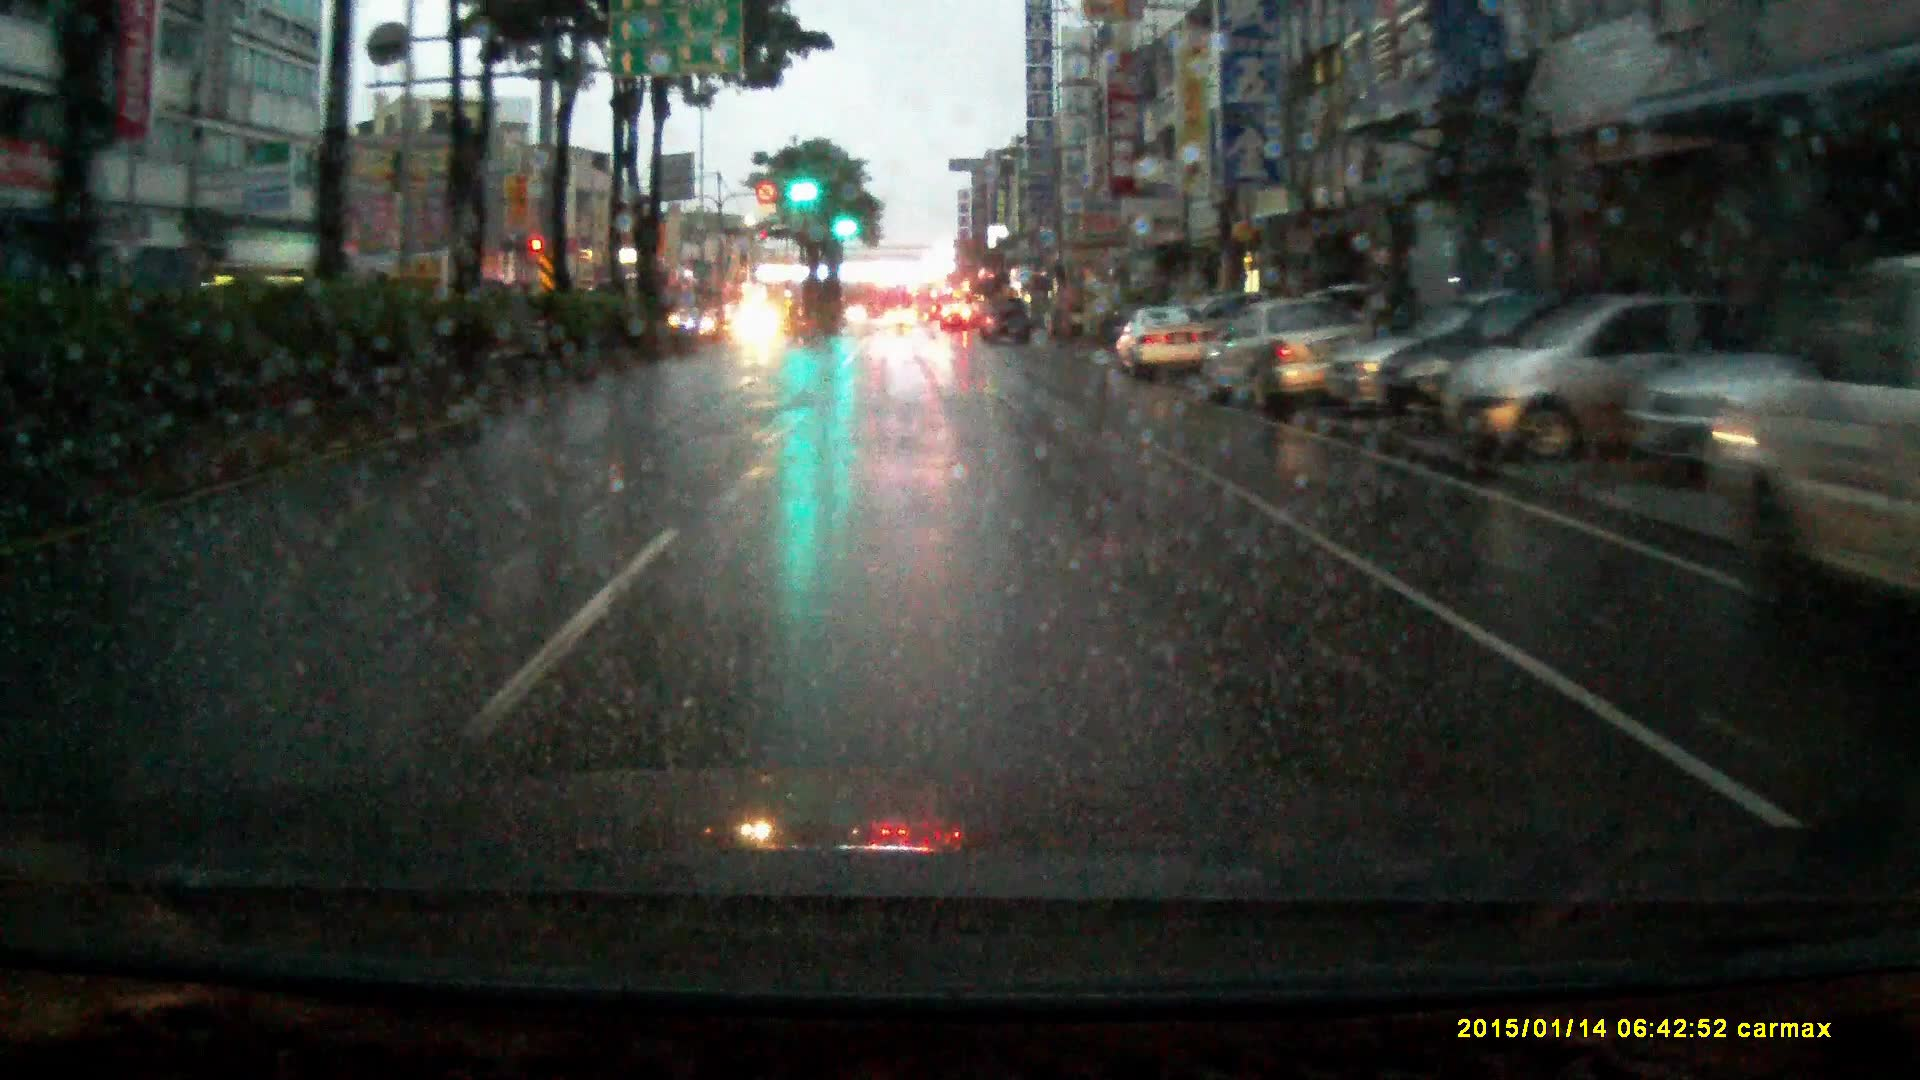vehicle: (1717, 249, 1920, 615), (1447, 290, 1778, 464), (1201, 290, 1385, 425), (1117, 303, 1208, 384), (978, 291, 1033, 343), (732, 301, 786, 348), (914, 278, 940, 318), (940, 298, 975, 328), (886, 303, 918, 324)
